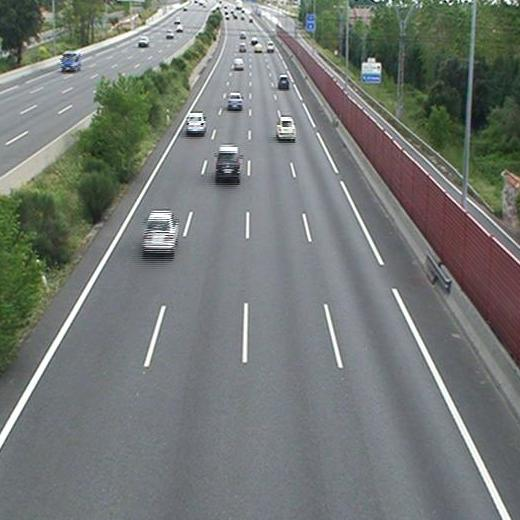car: (144, 212, 177, 251), (216, 146, 239, 176), (275, 118, 295, 140), (185, 113, 206, 132), (227, 93, 243, 108), (278, 75, 289, 87), (234, 58, 245, 69), (254, 43, 263, 52), (266, 41, 274, 51), (238, 44, 246, 51)
